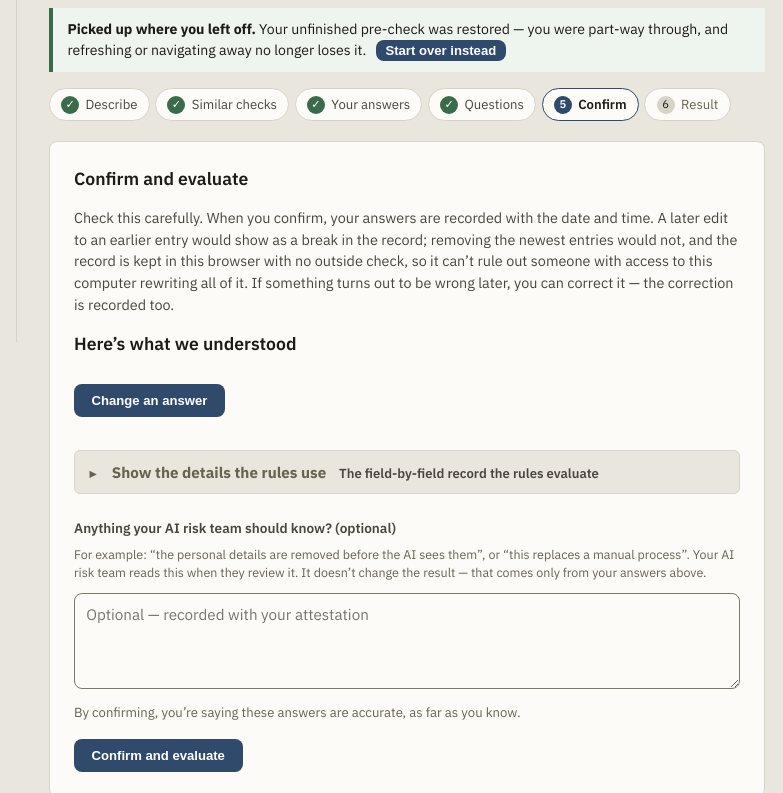
Test: IntakeFlow — going back (FN-006) › TC-CR6-D1: "Change an answer" on a structured_form case returns to the guided form, not the review screen
(page scrolled)
Click the button "Change an answer": (150, 400) [74, 384, 225, 416]
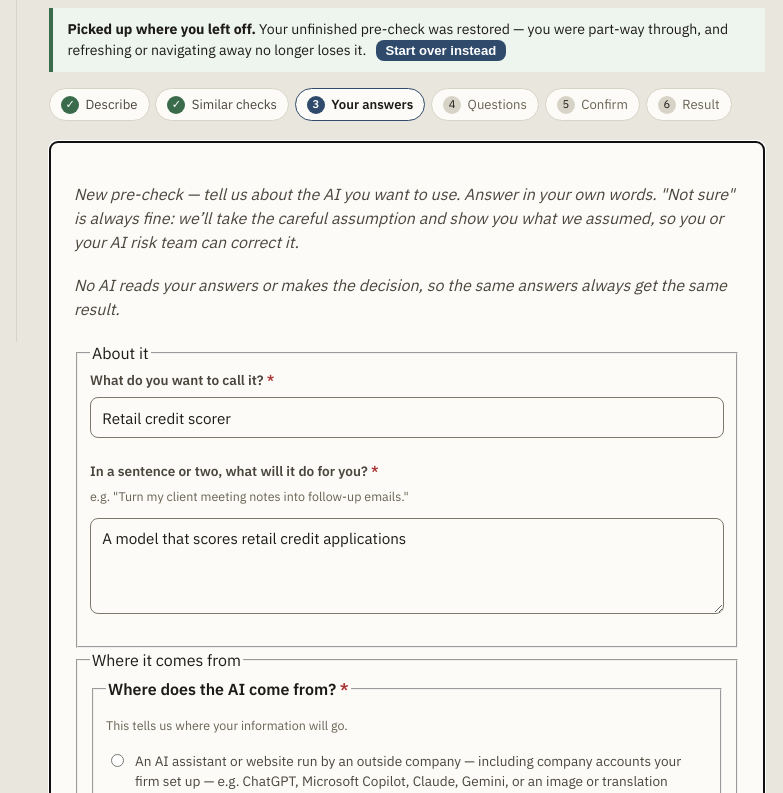
Result: the field labelled "What do you want to call it? *" holds "Retail credit scorer" at [90, 397, 724, 438]
